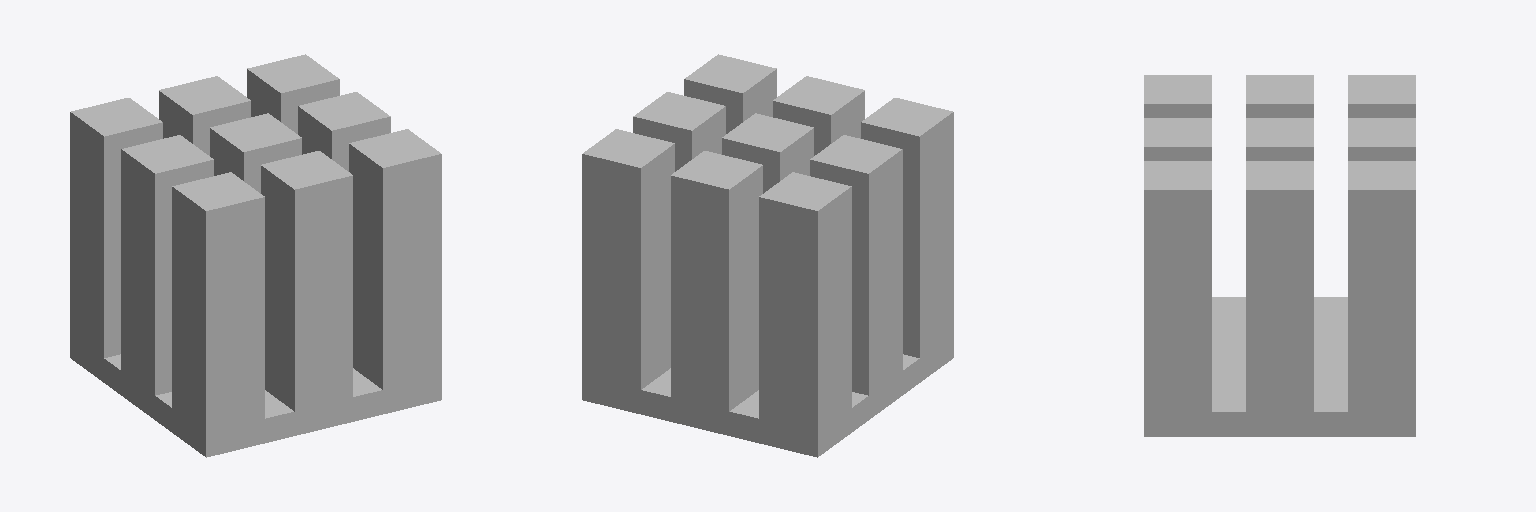
The model's file is Fortif.obj.
3 renders of one model, left to right at view 1: azimuth 30°, elevation 25°; view 2: azimuth 150°, elevation 25°; view 3: azimuth 270°, elevation 25°, orthographic.
Parts seen in each view (by area): view 1: cube1; view 2: cube1; view 3: cube1.
Part boxes in pixels (x1,y1,x2,y2): cube1: (70, 54, 441, 457); cube1: (582, 54, 953, 457); cube1: (1144, 75, 1415, 436).
Bounding box in the file's own units: 1 × 1 × 1.